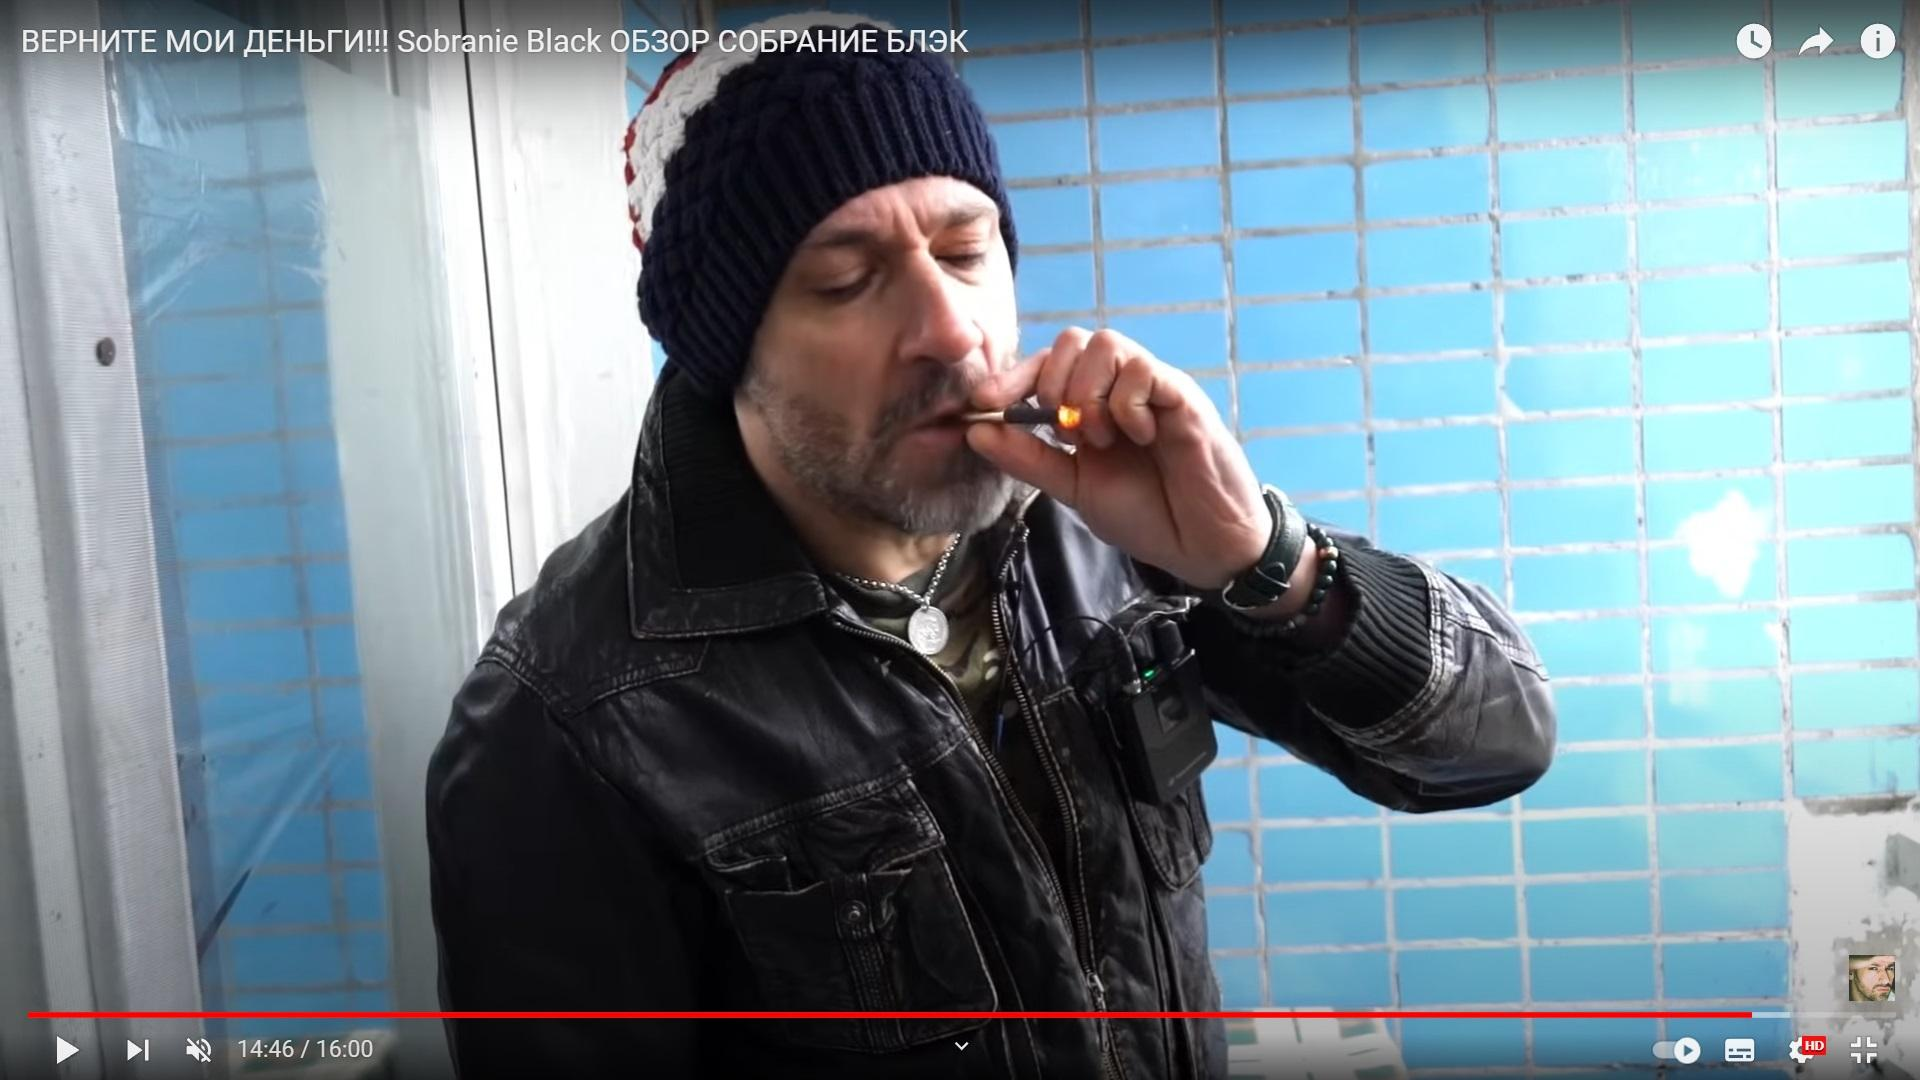cigarette: (957, 404, 1083, 430)
